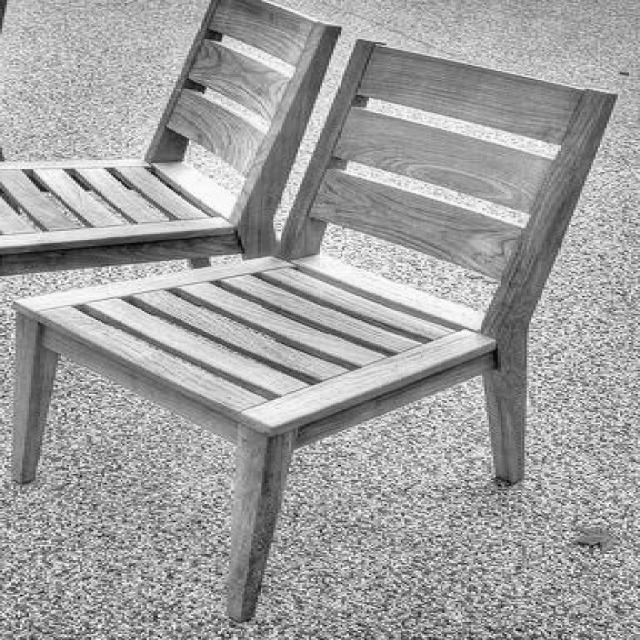chair: (13, 40, 640, 620), (0, 0, 342, 281)
